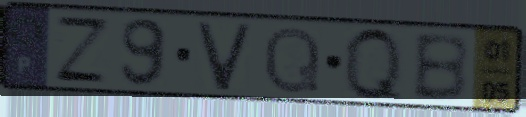9: (119, 16, 171, 90)
B: (409, 31, 472, 104)
Q: (340, 24, 407, 107), (260, 23, 324, 97)
V: (193, 20, 256, 94)
Z: (50, 13, 114, 86)
